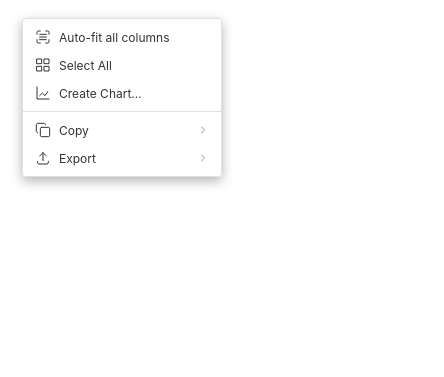
Scenario: ExportMenu › hides Export submenu on mouse leave
Hover over the element with test id "export-submenu-container" showing "Export".
mouse_move(122, 158)  # box [23,144,221,172]
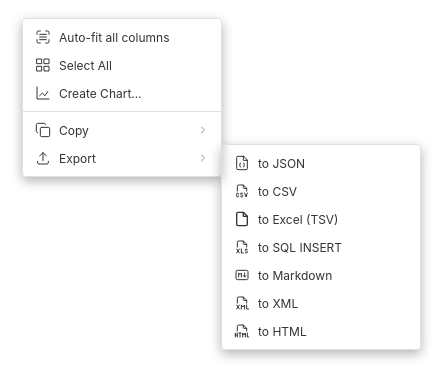
Expected: the element with test id "export-submenu" is shown, [221,144,421,350]
Move the pointer off the element with test id "export-submenu-container" that starts with "Export", box [23,144,221,172]
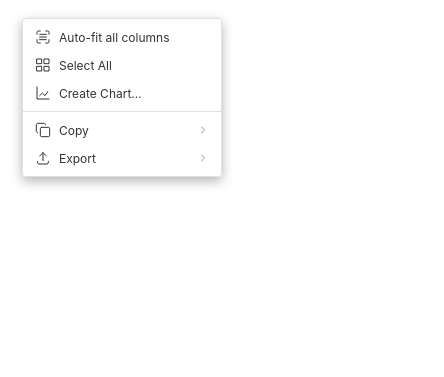
Expected: the element with test id "export-submenu" is gone
